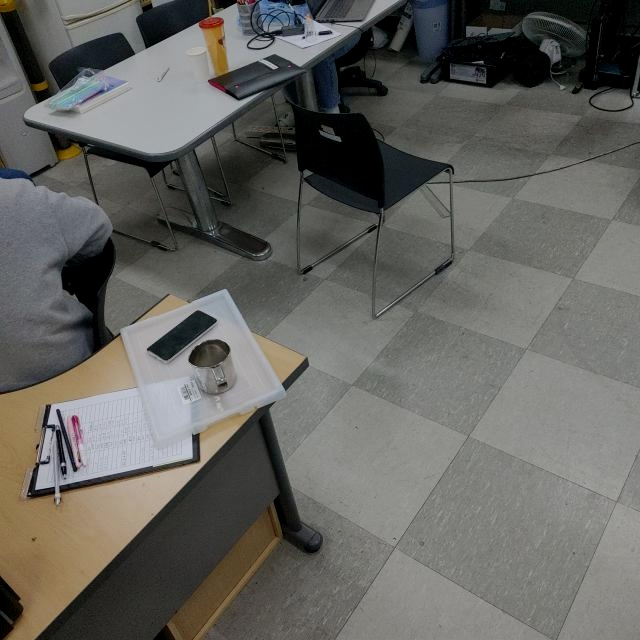cup: (186, 338, 234, 396)
phone: (149, 308, 217, 364)
